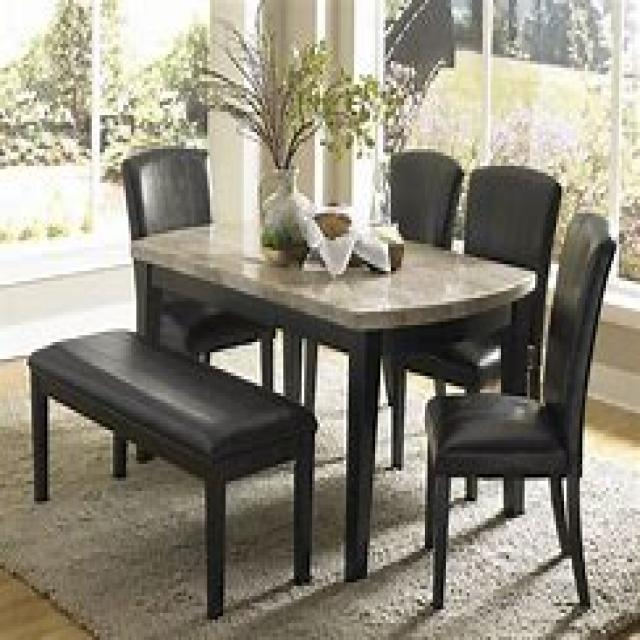chair: (422, 210, 616, 609), (391, 162, 561, 508)
table: (128, 210, 538, 579)
